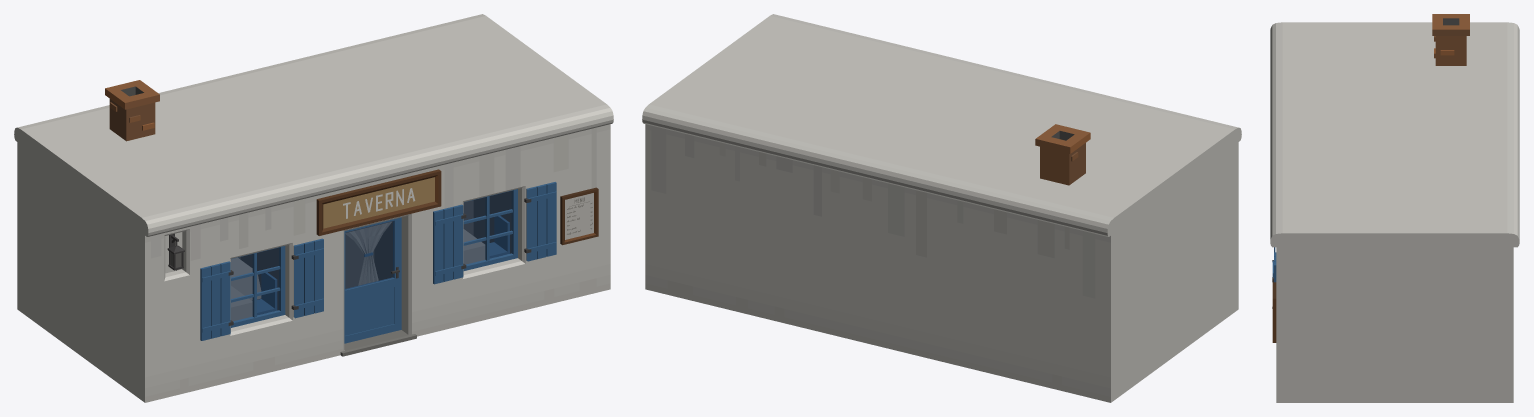
Rendered from waterfront-taverna-4e63bf.glb.
The picture shows the model from 3 angles, left to right: view 1: azimuth 30°, elevation 25°; view 2: azimuth 150°, elevation 25°; view 3: azimuth 270°, elevation 25°; orthographic projection. The views are drawn at different scales.
Visible parts, largest first — view 1: taverna-body, door-leaf, window-glass, door-glass; view 2: taverna-body; view 3: taverna-body.
Part boxes in pixels (<box>): taverna-body: <box>14,14,613,402</box>; door-leaf: <box>344,217,401,343</box>; window-glass: <box>231,191,511,320</box>; door-glass: <box>345,221,393,289</box>; taverna-body: <box>642,14,1241,402</box>; taverna-body: <box>1270,14,1519,402</box>.
Size of the model in its own units: 8 by 3.66 by 4.
